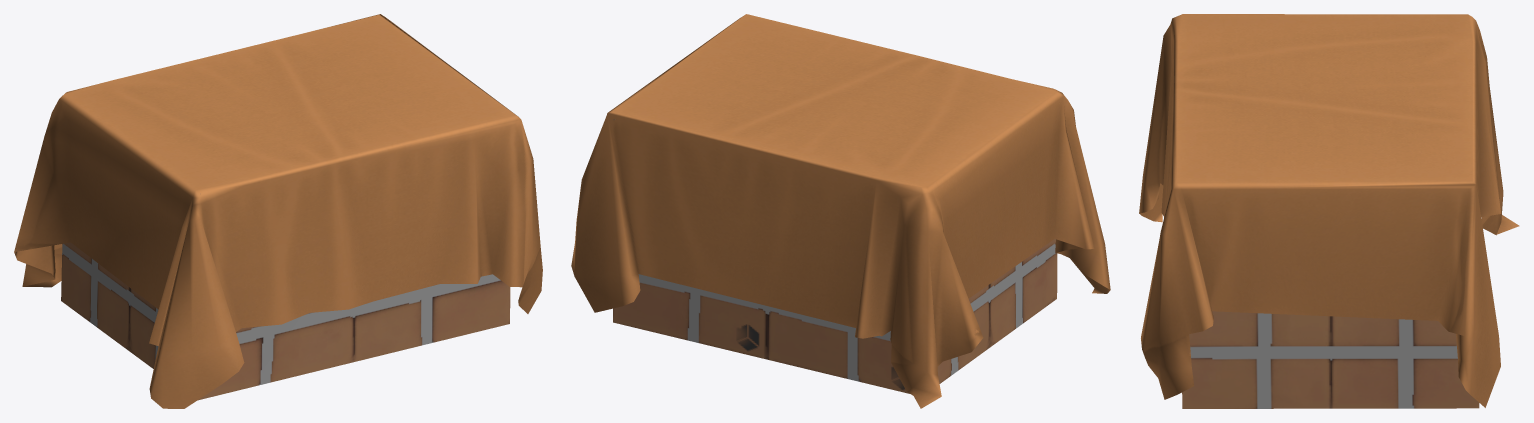
Rendered from Pfb_Box_GRP__15.fbx.
3 views of the same model, side by side, from view 1: azimuth 30°, elevation 25°; view 2: azimuth 150°, elevation 25°; view 3: azimuth 270°, elevation 25° (orthographic). The views are drawn at different scales.
Parts seen in each view (by area): view 1: MAT_Canvas_01 1, Mat_BoxGroup_01_Gray; view 2: MAT_Canvas_01 1, Mat_BoxGroup_01_Gray; view 3: MAT_Canvas_01 1, Mat_BoxGroup_01_Gray.
Boxes of the visible parts, x1,y1,x2,y2 form: MAT_Canvas_01 1: (14,14,542,408); Mat_BoxGroup_01_Gray: (61,193,510,400); MAT_Canvas_01 1: (571,14,1110,408); Mat_BoxGroup_01_Gray: (613,91,1058,393); MAT_Canvas_01 1: (1139,14,1519,407); Mat_BoxGroup_01_Gray: (1176,16,1479,408).
Size of the model in its own units: 2.45 by 1.19 by 1.79.
2 materials, 2 textured.
